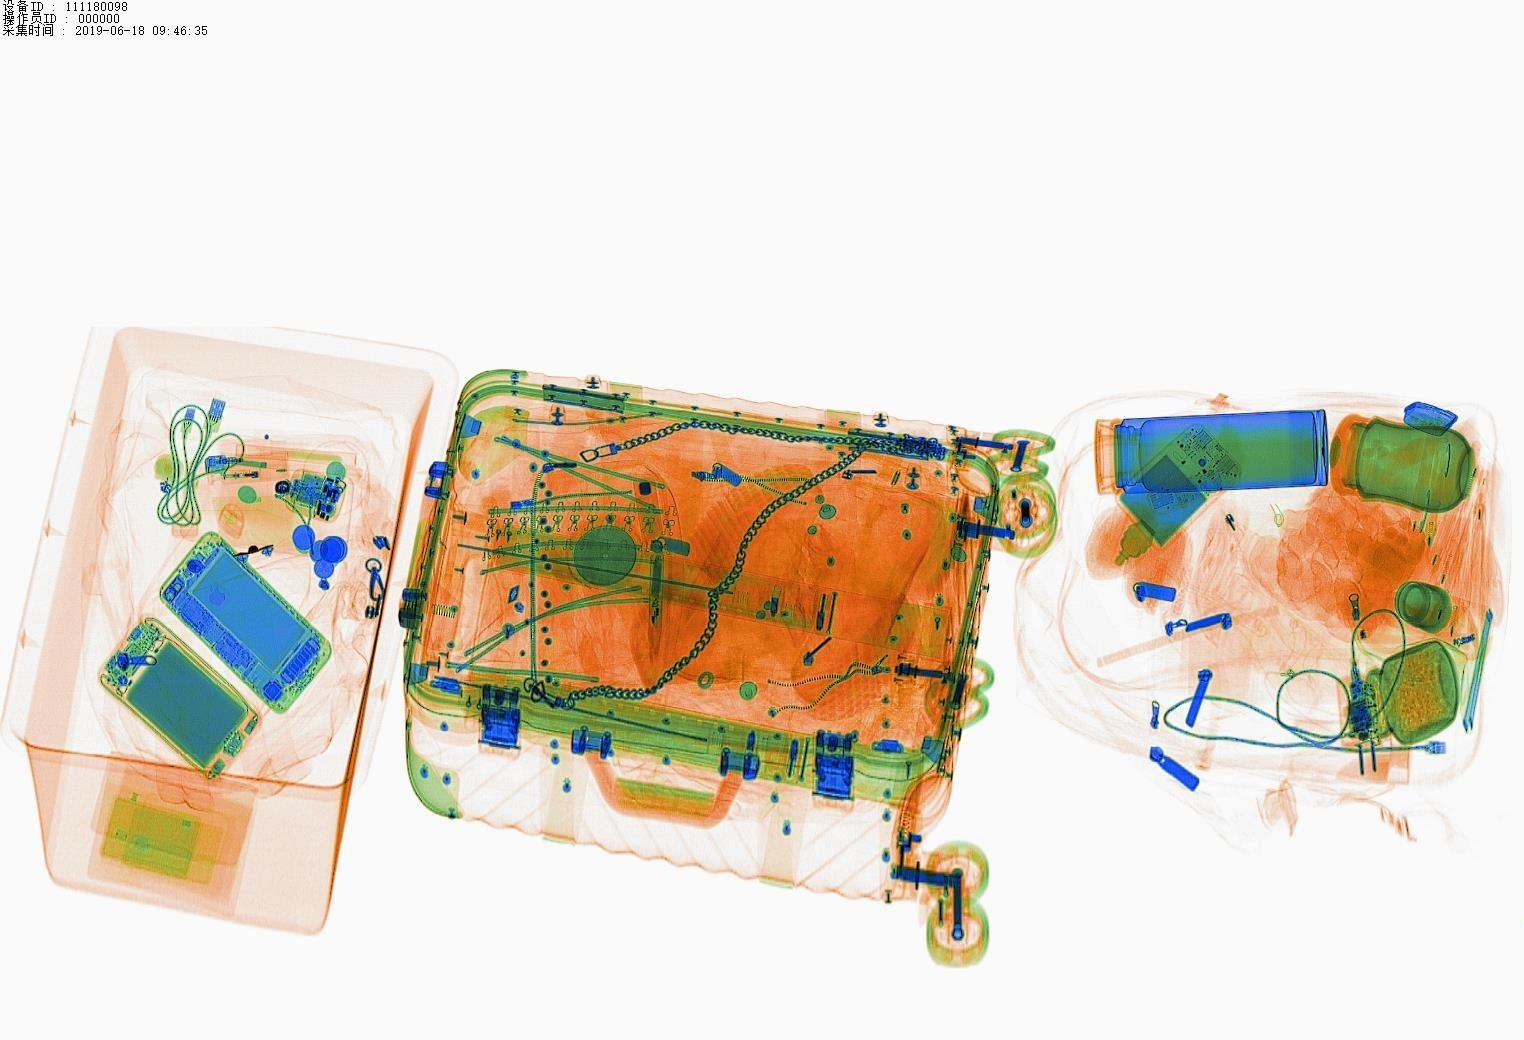NonmetallicFire: (203, 444, 313, 495)
